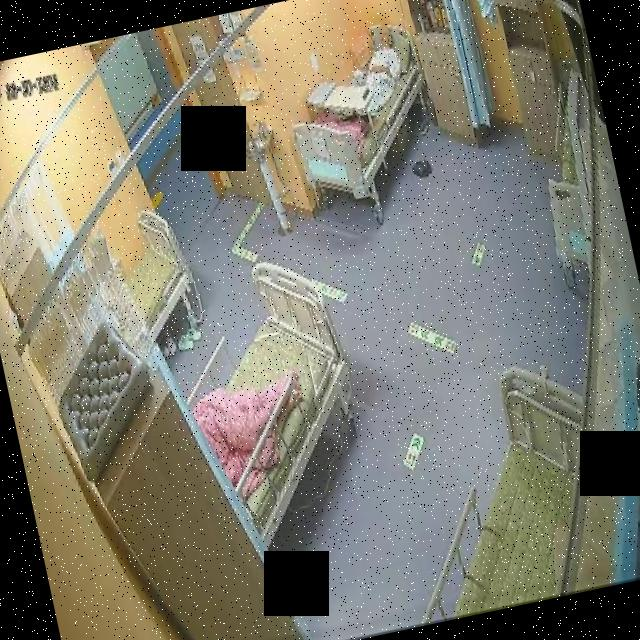bed: (374, 357, 624, 626), (170, 250, 382, 552), (273, 17, 450, 210), (112, 203, 202, 344)
lie: (350, 21, 410, 112)
patient: (353, 22, 411, 114)
